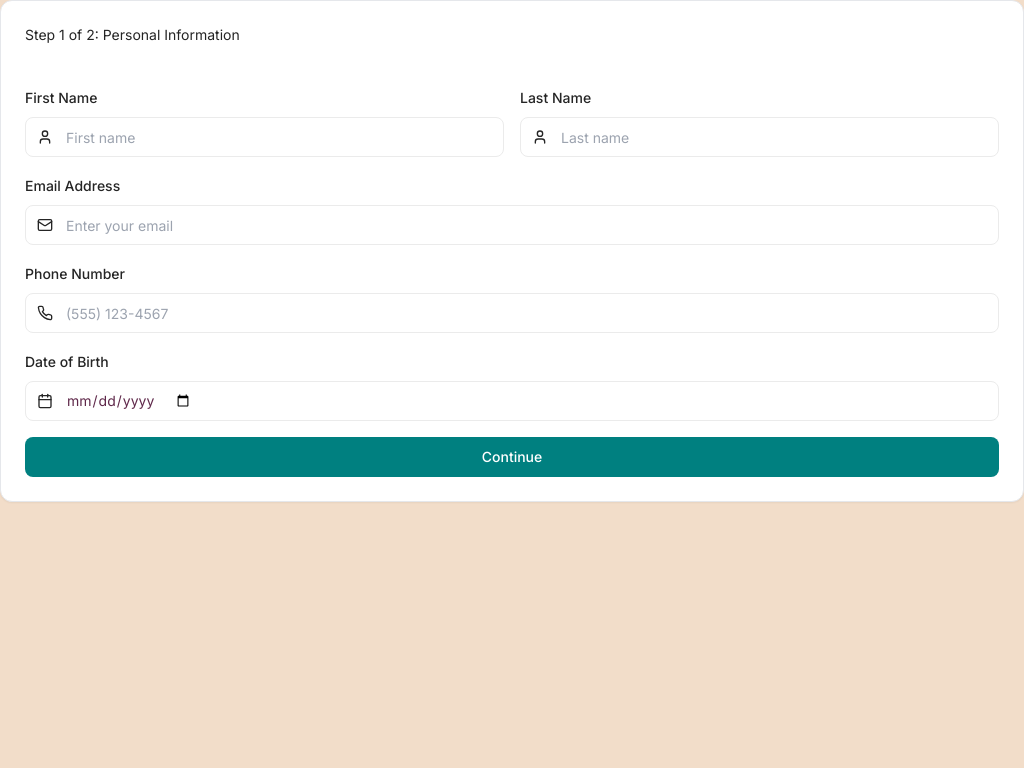
Scenario: PatientRegistrationForm › Form Validation › should validate required fields in step 1
This screenshot has width=1024, height=768.
Note: Try to continue without filling fields
Click the button "Continue" at (512, 457), box x1=25 y1=437 x2=999 y2=477
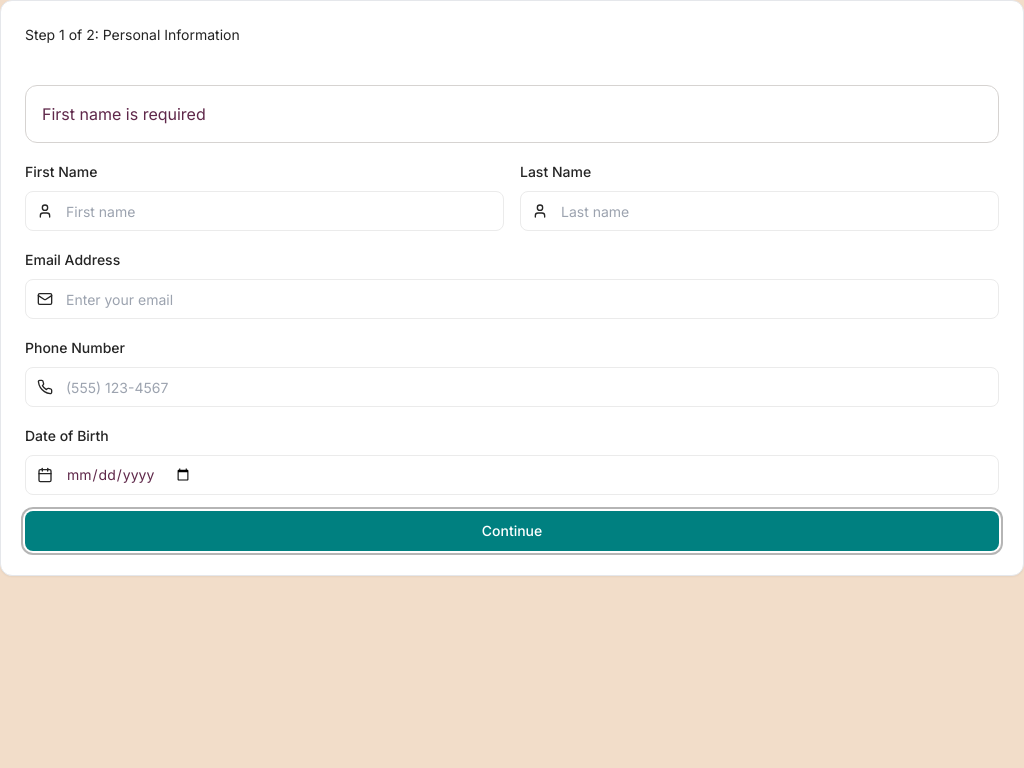
Check: the text "First name is required" is shown, box x1=25 y1=85 x2=999 y2=143
